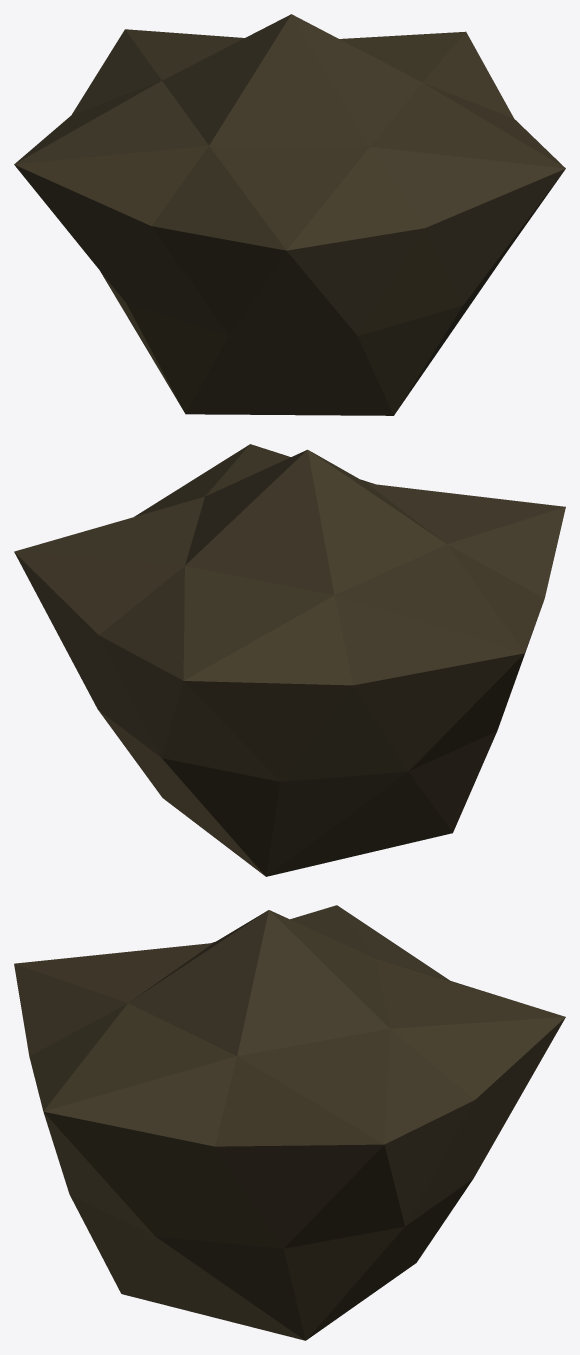
The model's file is ITFO_PLANTS_TROLLBERRYS_01.OBJ.
The picture shows the model from 3 angles, top to bottom: view 1: azimuth 30°, elevation 25°; view 2: azimuth 150°, elevation 25°; view 3: azimuth 270°, elevation 25°; orthographic projection. The views are drawn at different scales.
Parts seen in each view (by area): view 1: ITFO_PLANTS_TROLLBERRYS_01; view 2: ITFO_PLANTS_TROLLBERRYS_01; view 3: ITFO_PLANTS_TROLLBERRYS_01.
Part boxes in pixels (bbox=[...]): ITFO_PLANTS_TROLLBERRYS_01: bbox=[14, 14, 565, 415]; ITFO_PLANTS_TROLLBERRYS_01: bbox=[14, 444, 565, 876]; ITFO_PLANTS_TROLLBERRYS_01: bbox=[14, 905, 565, 1340].
Size of the model in its own units: 0.2762 by 0.1983 by 0.269.
